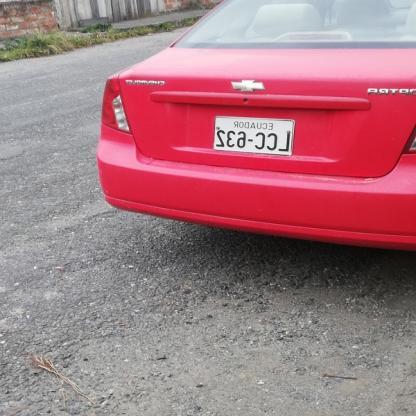Placa: (207, 115, 297, 157)
